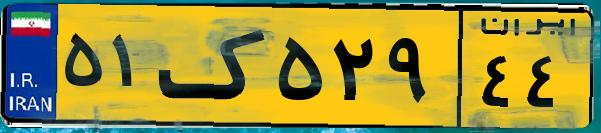1: (110, 28, 158, 98)
2: (330, 28, 385, 110)
4: (475, 38, 525, 113), (525, 38, 570, 115)
5: (270, 28, 330, 110), (57, 26, 110, 100)
9: (385, 28, 445, 110)
ک: (158, 12, 270, 120)
